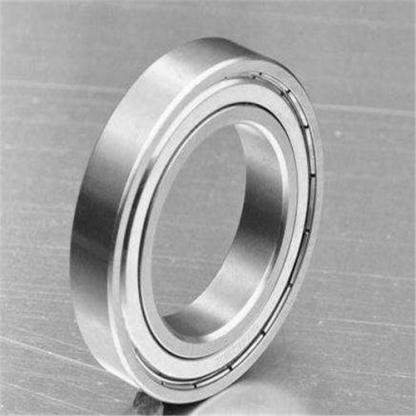FOD: (64, 35, 329, 408)
